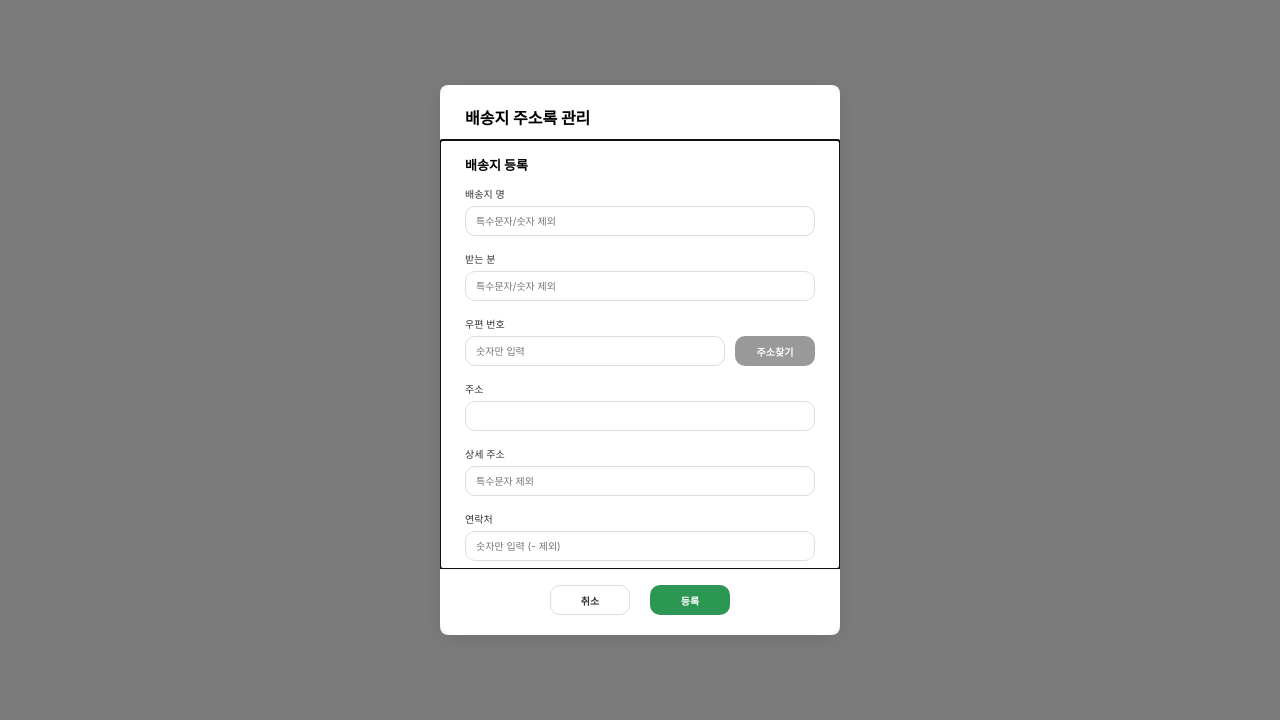
Test: ShippingAddressModal 테스트 › 입력값 필터링: 이름과 받는 분 입력 시 숫자와 특수문자가 제거되어야 한다
'우리집123!' 입력 시도
Type "우리집123!" into the field named "name" at [640, 221], box x1=465 y1=206 x2=815 y2=236
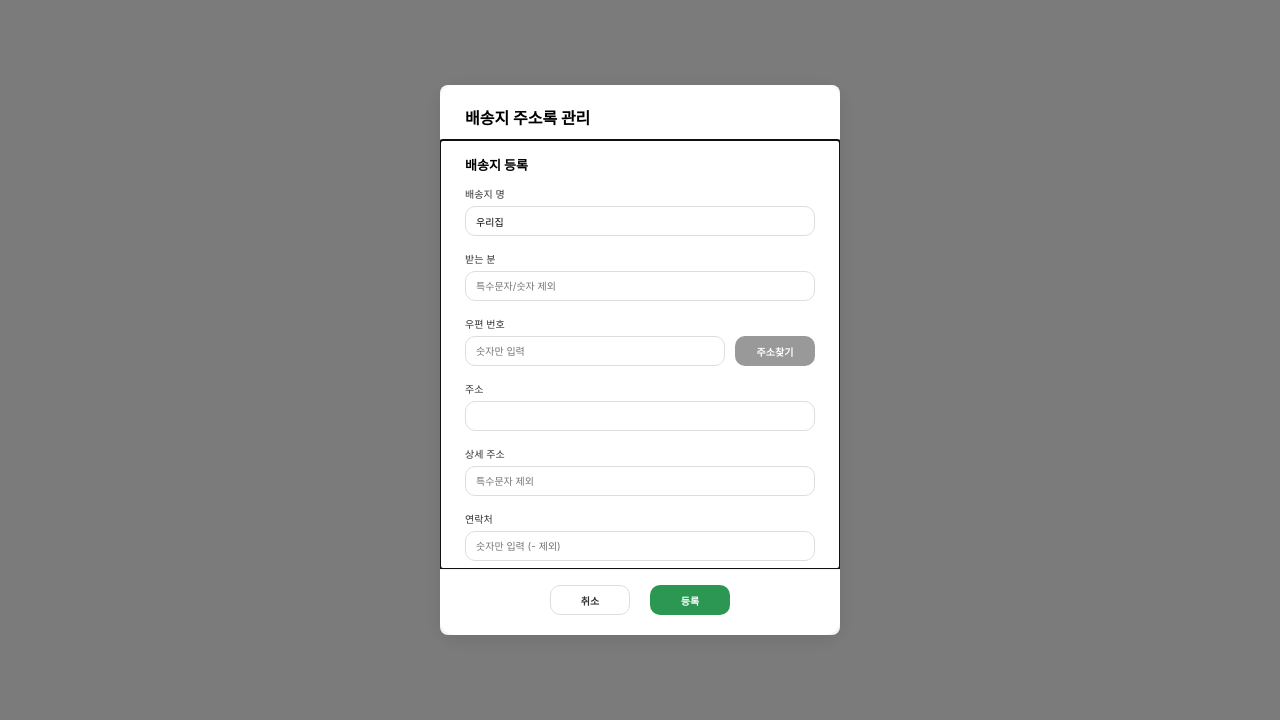
Expected: the field named "name" below "배송지 명" holds "우리집", x1=465 y1=206 x2=815 y2=236
